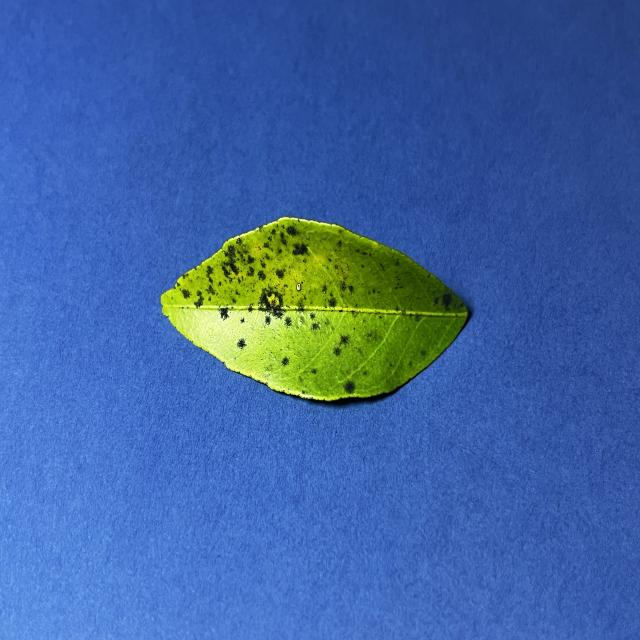sooty_mold: (161, 217, 467, 400)
